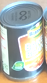beans: (1, 1, 44, 83)
